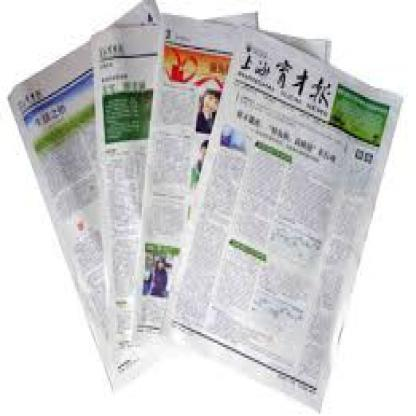paper: (158, 21, 400, 412), (6, 0, 230, 395), (131, 17, 328, 369), (89, 9, 257, 362)
